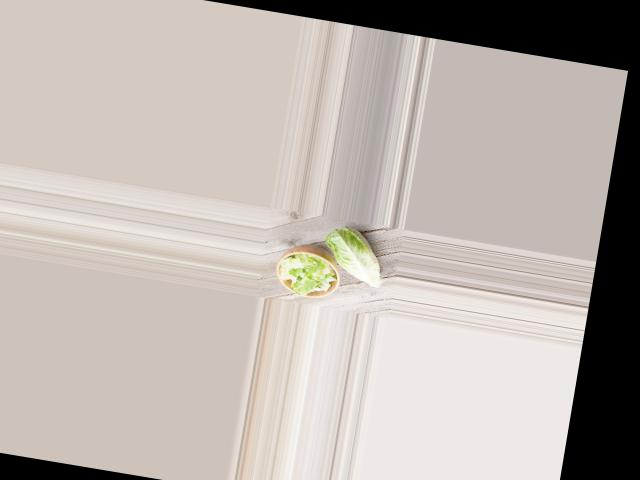lettuce: (319, 222, 388, 288)
